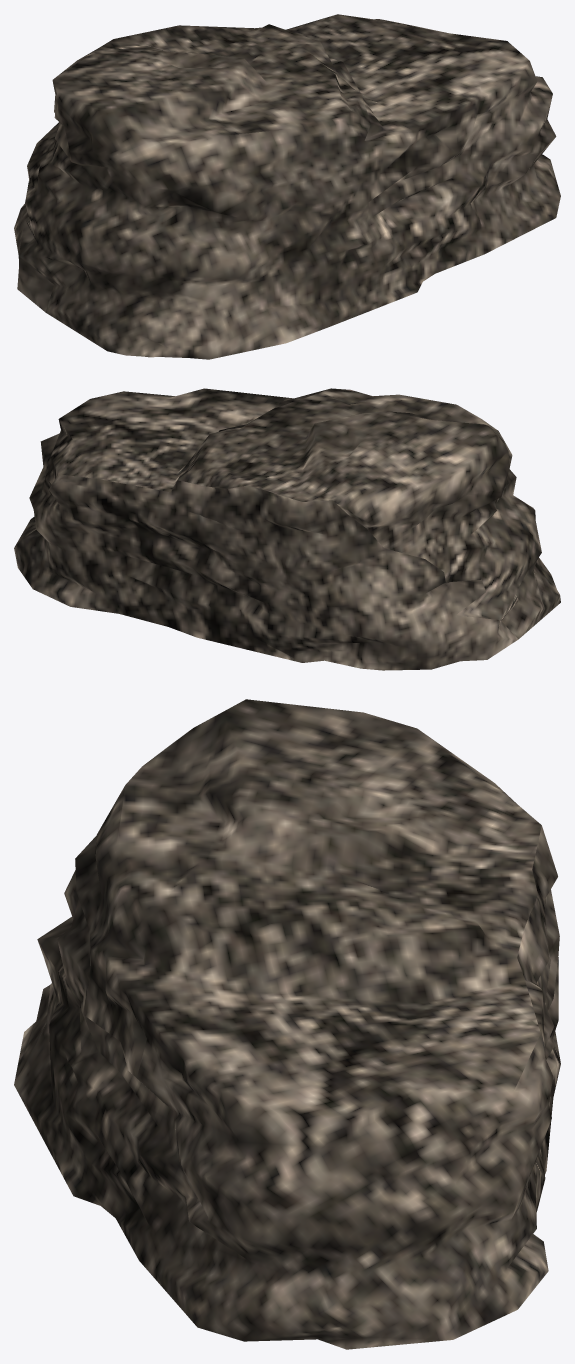
The model's file is SM_ION_CommonRock_02.fbx.
3 views of the same model, one above another, from view 1: azimuth 30°, elevation 25°; view 2: azimuth 150°, elevation 25°; view 3: azimuth 270°, elevation 25° (orthographic). The views are drawn at different scales.
Parts seen in each view (by area): view 1: SM_ION_CommonRock_02.mo; view 2: SM_ION_CommonRock_02.mo; view 3: SM_ION_CommonRock_02.mo.
Boxes of the visible parts, x1,y1,x2,y2 form: SM_ION_CommonRock_02.mo: (14,14,560,359); SM_ION_CommonRock_02.mo: (14,388,560,670); SM_ION_CommonRock_02.mo: (14,699,560,1349).
Bounding box in the file's own units: 422 × 163 × 257.
